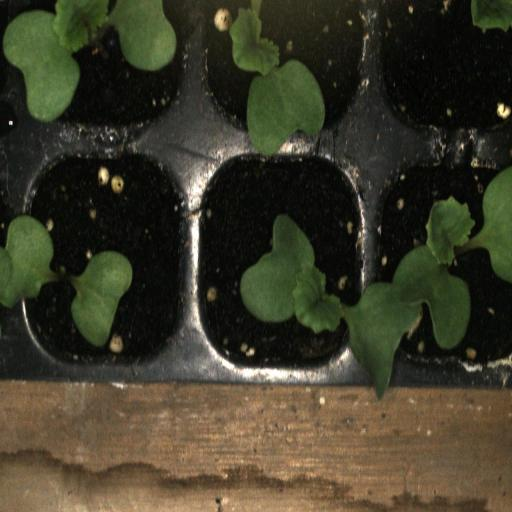seedling: (193, 140, 374, 376), (17, 139, 192, 372), (372, 141, 512, 377), (13, 0, 192, 142)
